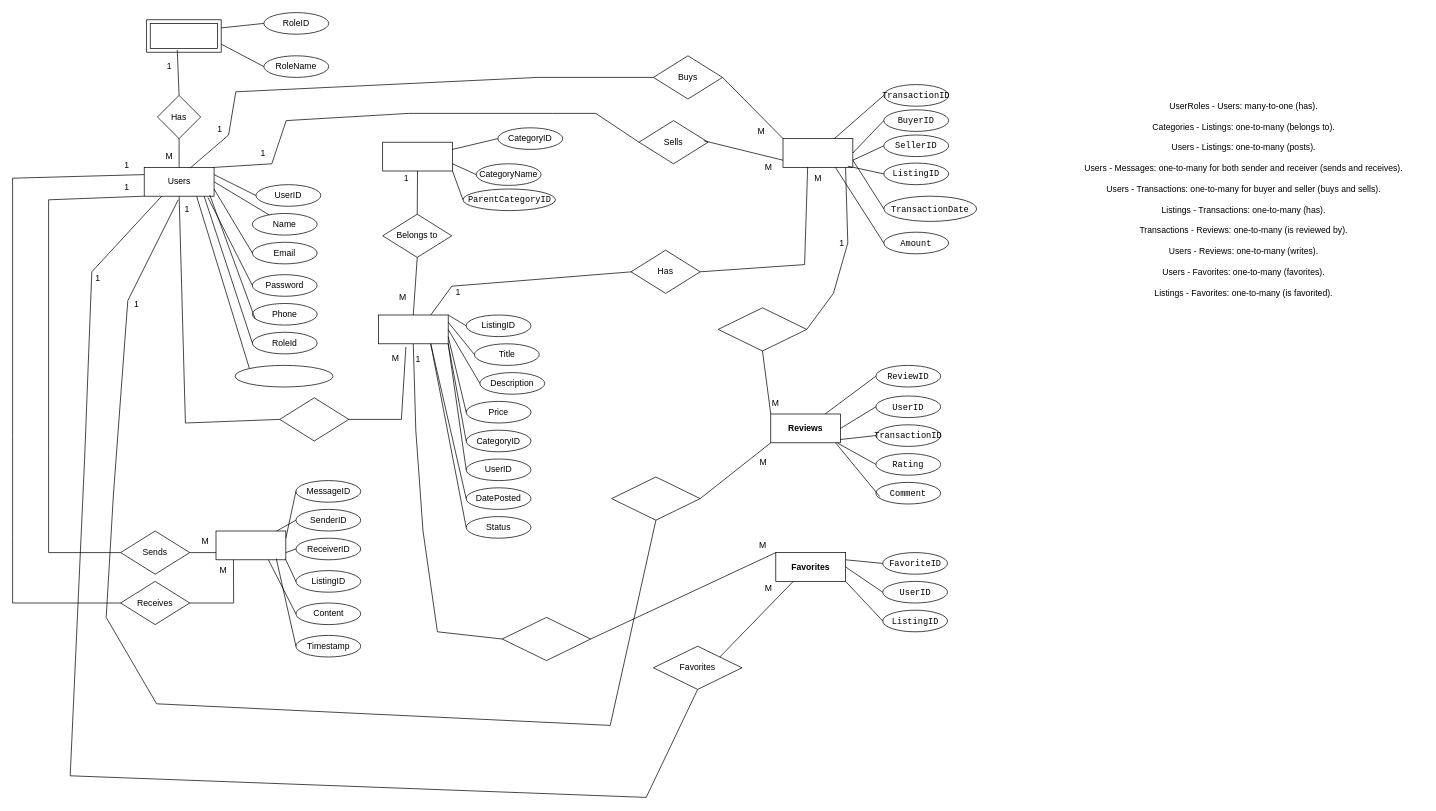
The diagram is 1436 pixels wide and 811 high, and some of its shapes have lost their labels. Each missing label, with the centre of its shape:
"Categories" goes at (x=417, y=156).
"Is reviewed by" goes at (x=762, y=329).
"Isfavorited" goes at (x=546, y=639).
"Listings" goes at (x=413, y=329).
"Messages" goes at (x=250, y=545).
"Posts" goes at (x=314, y=419).
"RegistrationDate" goes at (x=283, y=376).
"Transactions" goes at (x=817, y=152).
"UserRoles" goes at (x=183, y=35).
"Writes" goes at (x=655, y=498).
